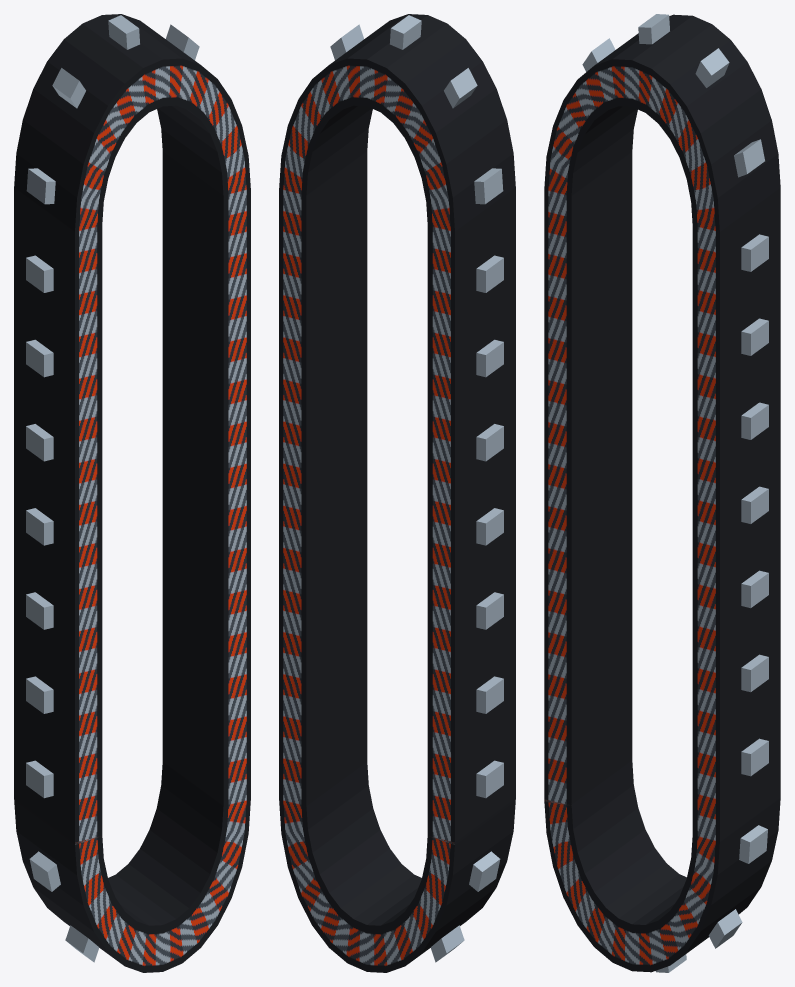
The model's file is chainsaw_chain_2.obj.
The picture shows the model from 3 angles, left to right: view 1: azimuth 30°, elevation 25°; view 2: azimuth 150°, elevation 25°; view 3: azimuth 330°, elevation 25°; orthographic projection.
Visible parts, largest first — view 1: ChainsawChainFrame_2; view 2: ChainsawChainFrame_2; view 3: ChainsawChainFrame_2.
Part boxes in pixels (x1,y1,x2,y2): ChainsawChainFrame_2: (14,14,250,972); ChainsawChainFrame_2: (279,14,515,972); ChainsawChainFrame_2: (544,14,780,972).
Bounding box in the file's own units: 0.6481 × 3 × 0.35.
2 materials, 2 textured.
